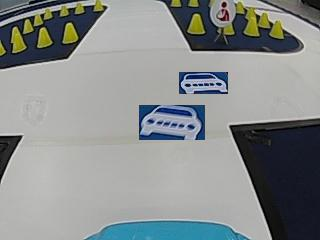cone: (187, 13, 205, 34), (244, 11, 259, 36), (11, 26, 26, 51), (62, 23, 78, 43), (37, 28, 53, 47), (269, 20, 284, 39), (259, 12, 270, 27), (23, 18, 33, 32), (92, 0, 103, 12), (74, 2, 85, 14), (235, 1, 245, 14), (33, 13, 43, 25), (43, 8, 53, 19), (59, 5, 69, 16), (187, 0, 200, 7), (169, 0, 182, 7), (0, 38, 5, 55)
patient: (211, 0, 233, 24)
